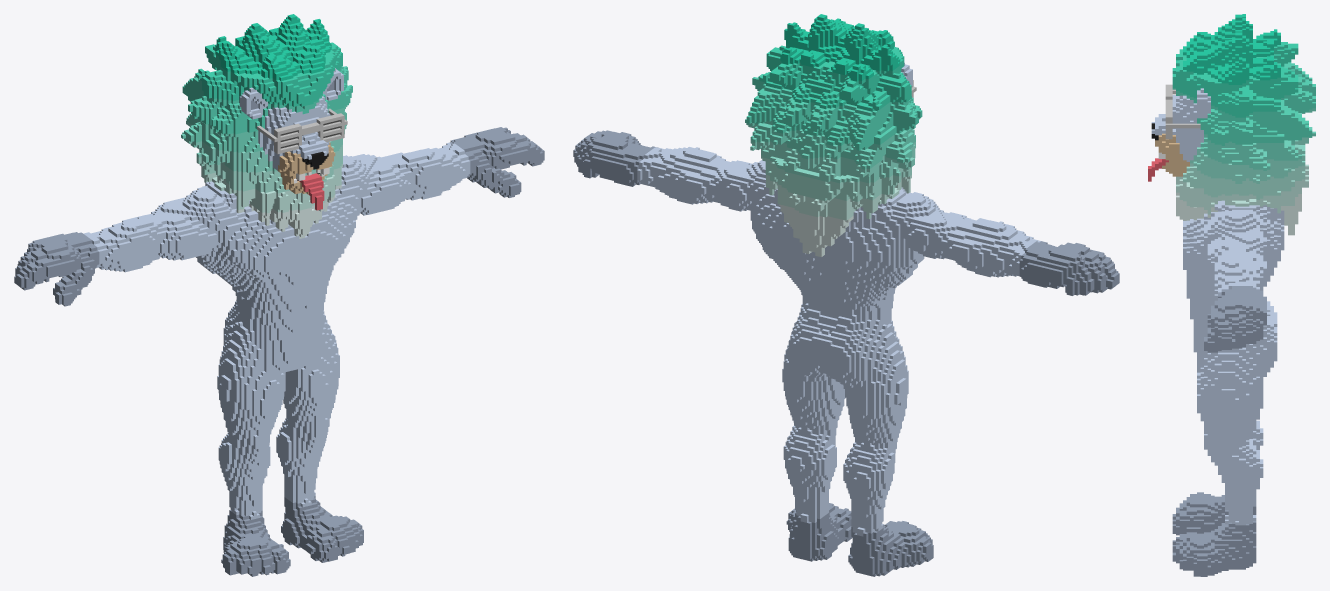
File: 245-CiOQallm.glb
3 views of the same model, side by side, from view 1: azimuth 30°, elevation 25°; view 2: azimuth 150°, elevation 25°; view 3: azimuth 270°, elevation 25° (orthographic). The views are drawn at different scales.
Visible parts, largest first — view 1: tongue_out; view 2: tongue_out; view 3: tongue_out.
Part boxes in pixels (x1=…): tongue_out: x1=14, y1=14, x2=544, y2=576; tongue_out: x1=573, y1=14, x2=1119, y2=576; tongue_out: x1=1148, y1=14, x2=1315, y2=576.
Size of the model in its own units: 17.2 by 16.5 by 4.8.
Materials: 4 (4 with a texture image).
